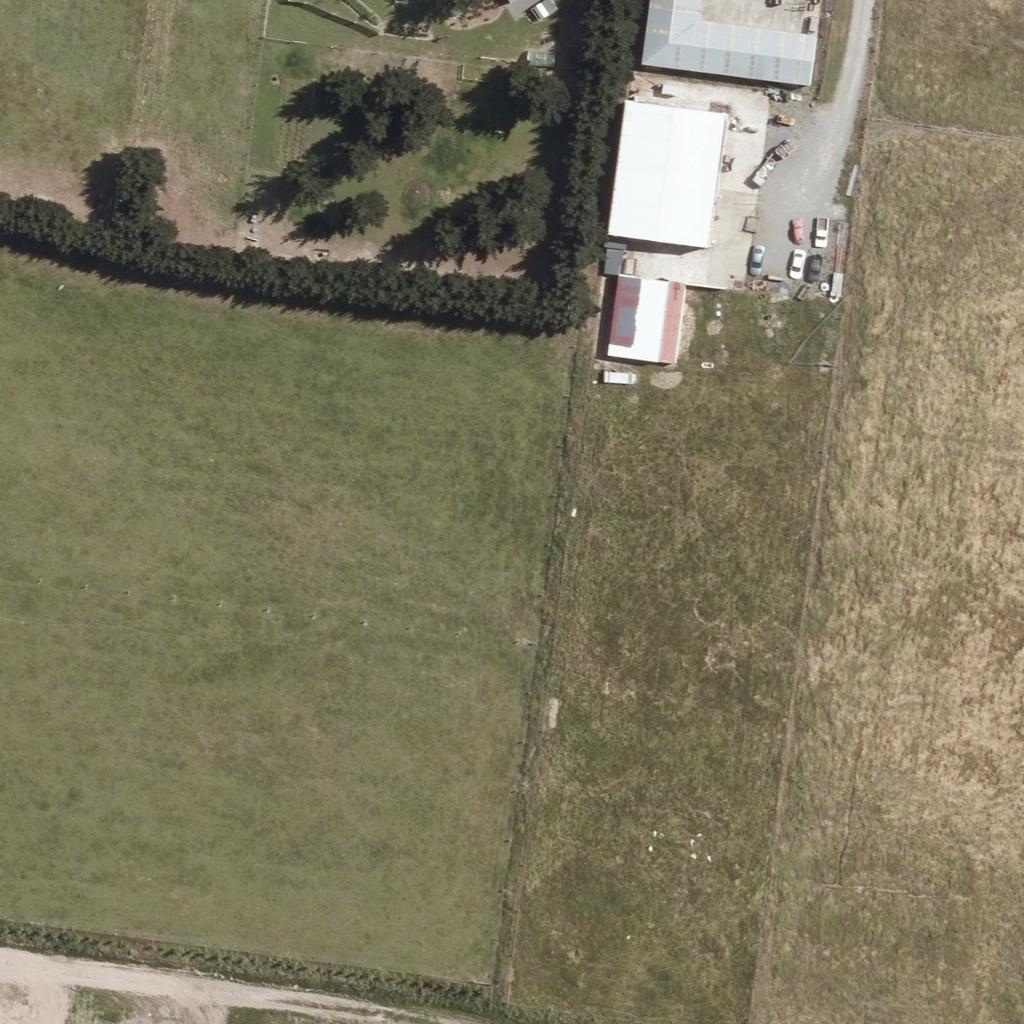car: (780, 215, 814, 249), (802, 215, 836, 249), (739, 241, 773, 275), (779, 245, 813, 279), (797, 247, 831, 281)
